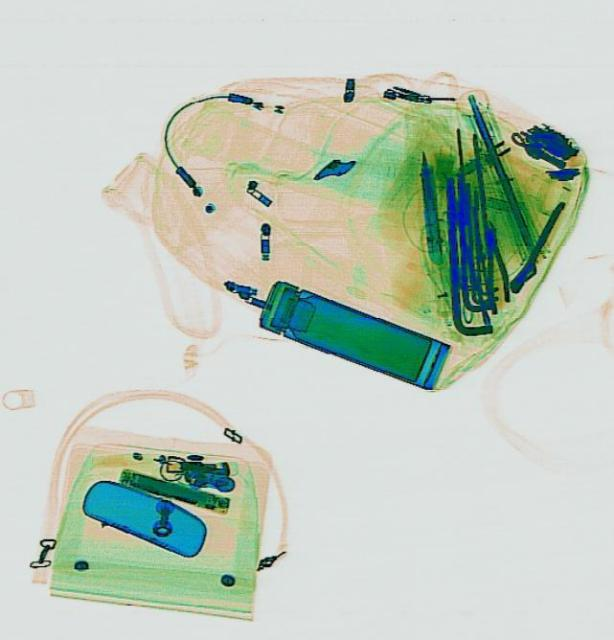Pliers: (473, 215, 509, 315)
Wrench: (501, 195, 569, 295)
